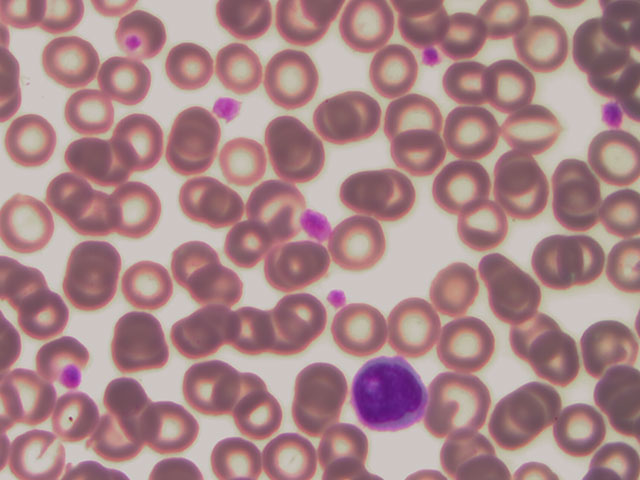Platelets: (298, 207, 336, 243), (213, 94, 246, 125), (596, 100, 625, 128), (61, 365, 88, 390), (322, 286, 351, 309), (420, 45, 443, 72)
RBC: (426, 261, 482, 318), (180, 359, 234, 414), (218, 134, 269, 189), (198, 181, 249, 236), (177, 172, 228, 227), (170, 231, 221, 286), (189, 259, 240, 314), (122, 255, 173, 310), (63, 262, 114, 317), (70, 230, 121, 285), (114, 181, 165, 236), (76, 189, 127, 244), (45, 171, 96, 226), (6, 113, 57, 168), (66, 85, 117, 140), (95, 49, 146, 104), (45, 31, 96, 86), (117, 111, 168, 166), (92, 131, 143, 186), (65, 134, 116, 189), (20, 294, 71, 349), (6, 264, 57, 319), (40, 318, 91, 373), (2, 372, 53, 427), (48, 388, 99, 443), (10, 425, 61, 480), (100, 376, 151, 431), (143, 402, 194, 457), (490, 397, 541, 452), (220, 364, 271, 419), (236, 391, 287, 446), (207, 425, 258, 480), (261, 425, 312, 480), (294, 358, 345, 413), (316, 424, 367, 479), (434, 375, 485, 430), (443, 316, 494, 371), (391, 300, 442, 355), (329, 304, 380, 359), (276, 289, 327, 344), (262, 305, 313, 360), (232, 303, 283, 358), (198, 304, 249, 359), (175, 312, 226, 367), (115, 313, 166, 368), (436, 158, 487, 213), (516, 381, 567, 436), (553, 401, 604, 456), (534, 338, 585, 393), (514, 314, 565, 369), (491, 279, 542, 334), (480, 249, 531, 304), (334, 218, 385, 273), (457, 202, 508, 257), (497, 171, 548, 226), (531, 237, 582, 292), (555, 230, 606, 285), (554, 187, 605, 242), (589, 180, 640, 235), (589, 130, 640, 185), (506, 104, 557, 159), (442, 102, 493, 157), (394, 128, 445, 183), (386, 167, 437, 222), (312, 94, 363, 149), (349, 87, 400, 142), (394, 88, 445, 143), (367, 45, 418, 100), (445, 11, 496, 66), (520, 18, 571, 73), (488, 59, 539, 114), (445, 55, 496, 110), (548, 148, 599, 203), (267, 54, 318, 109), (215, 41, 266, 96), (163, 38, 214, 93), (270, 239, 321, 294), (249, 179, 300, 234), (223, 218, 274, 273), (267, 118, 318, 173), (589, 370, 640, 425), (581, 314, 632, 369), (343, 1, 394, 55), (1, 194, 51, 249), (342, 166, 395, 217), (220, 1, 270, 41)
WBC: (350, 356, 428, 430)
